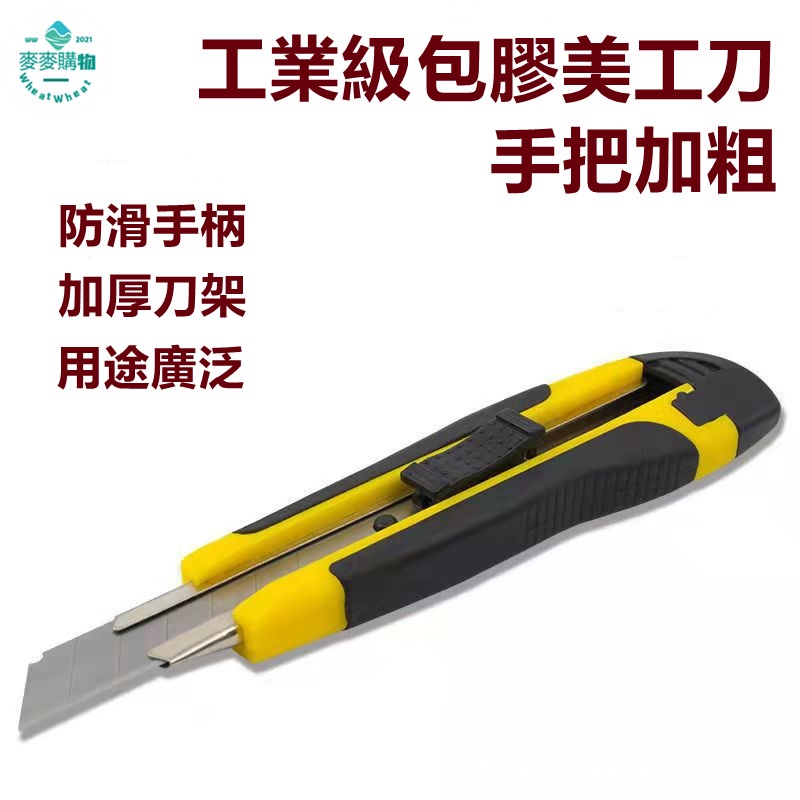cutter: (16, 350, 787, 744)
